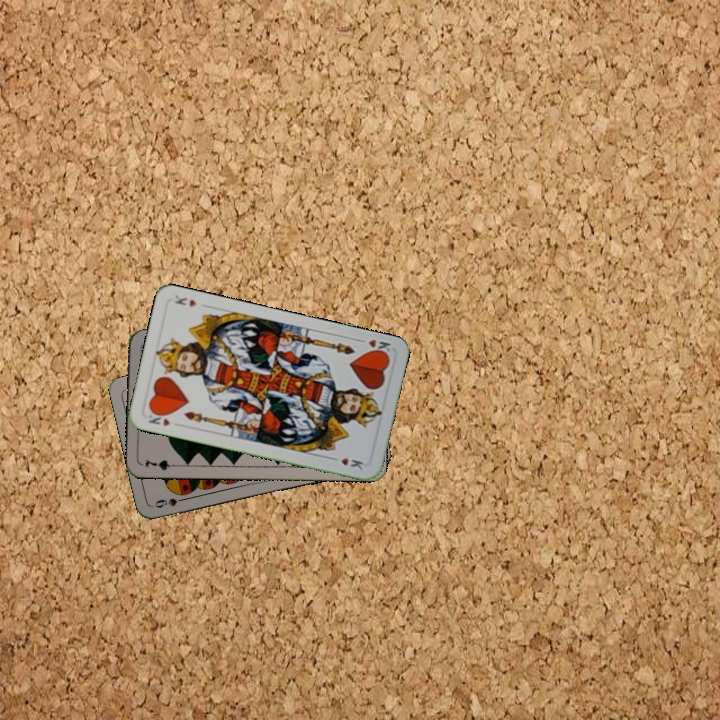G7: (141, 455, 181, 473)
HK: (354, 335, 394, 358), (144, 407, 173, 429)
S9: (150, 493, 191, 510)
